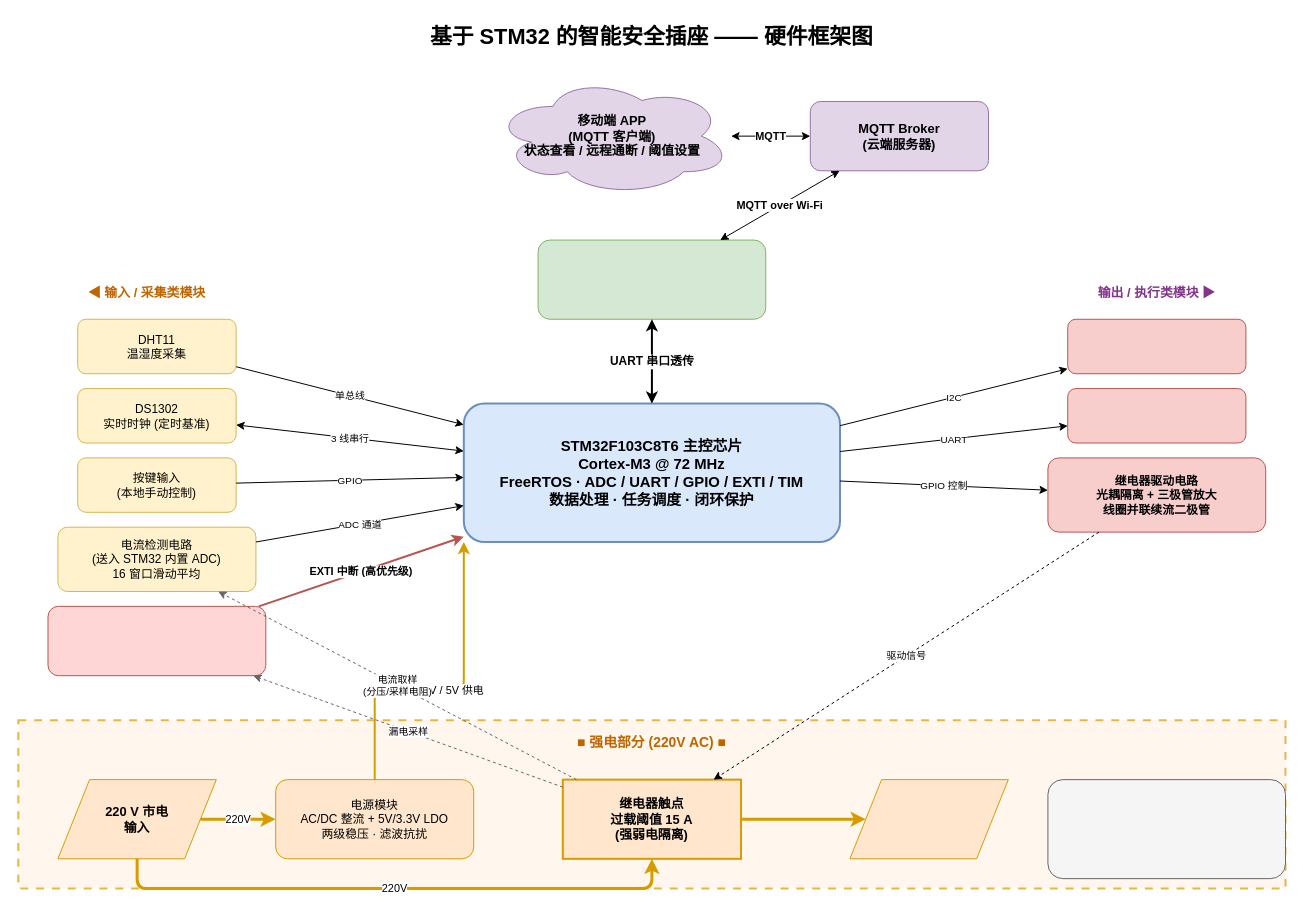
Some shapes in this 1303 by 915 pixel diagram are drawn without their labels. Here are the shapes that lost their labels. From the top down, the box of each, then its label:
(537, 239, 766, 319): ESP-12F (ESP8266) Wi-Fi 通信模块 30s 心跳 / 掉线重连
(1067, 318, 1246, 374): OLED 显示屏 (温/湿/电压/电流/功率)
(1067, 388, 1246, 443): JQ8900 语音播报模块
(47, 605, 266, 676): 漏电检测电路 零序电流互感器 + 比较器 阈值 10 mA → EXTI 中断
(849, 779, 1008, 859): 用户负载 (家用电器)
(1047, 779, 1286, 879): 图例 ━━ 弱电信号 / 数据 ━━ 强电 (粗线) ┄┄ 控制 / 取样信号 ━━ 中断关键路径 (红)
